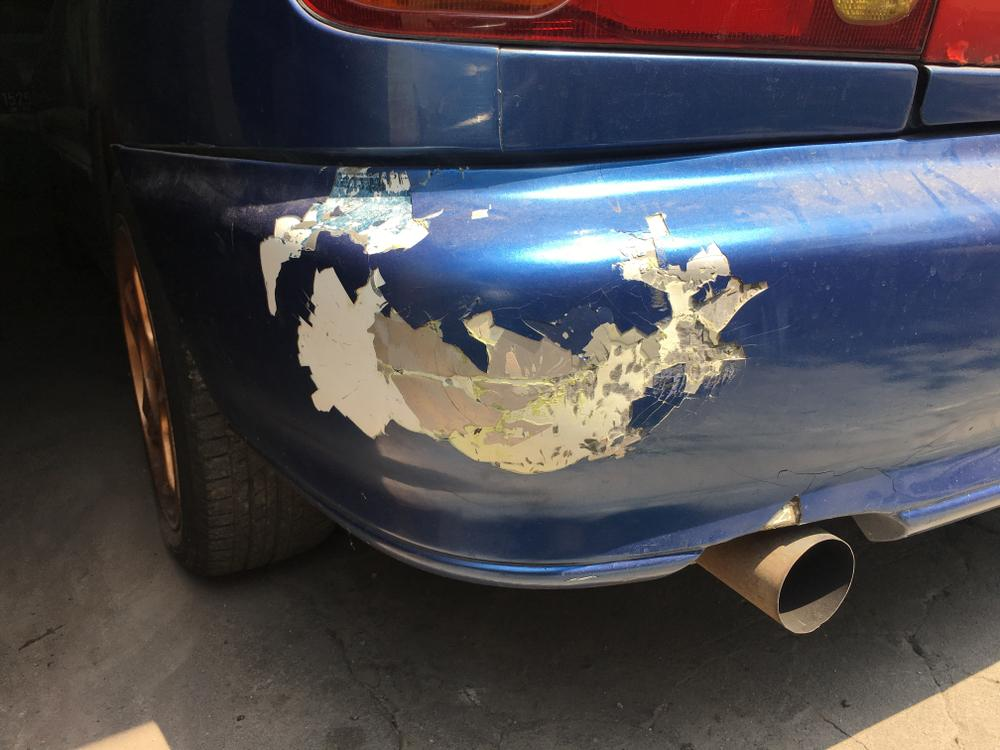scratch: (260, 162, 771, 484)
